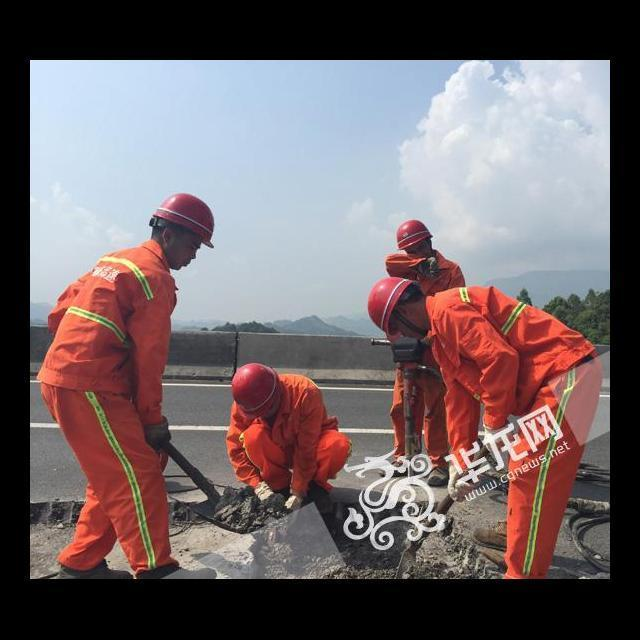helmet: (148, 180, 226, 255), (218, 346, 292, 419), (360, 272, 424, 341), (388, 212, 446, 263)
safety_vest: (34, 234, 202, 579), (412, 276, 599, 580), (382, 247, 480, 482), (215, 364, 365, 512)
